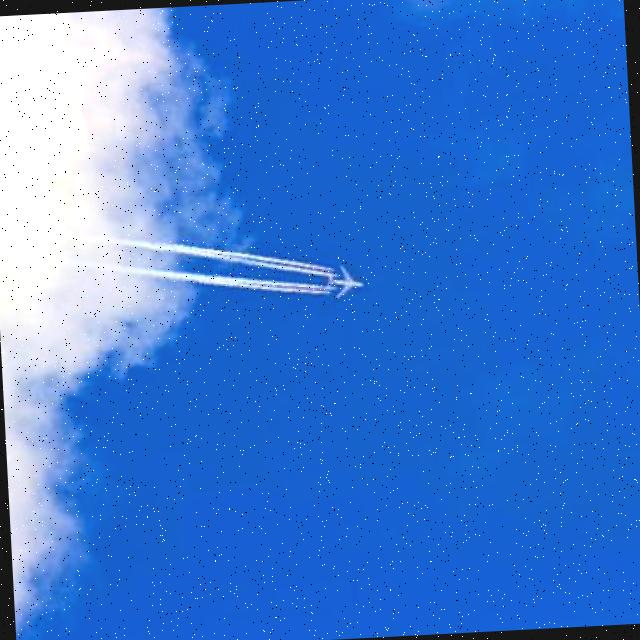Ct: (111, 238, 379, 324)
